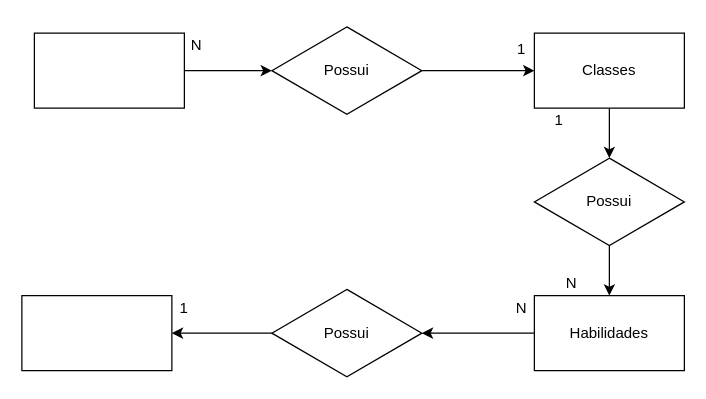
This 706x399 diagram has some shape labels left out. The centre of each missing label's shape, as x and y in pixels:
Personagens: the point at 108,70
TipHabilidade: the point at 96,332
